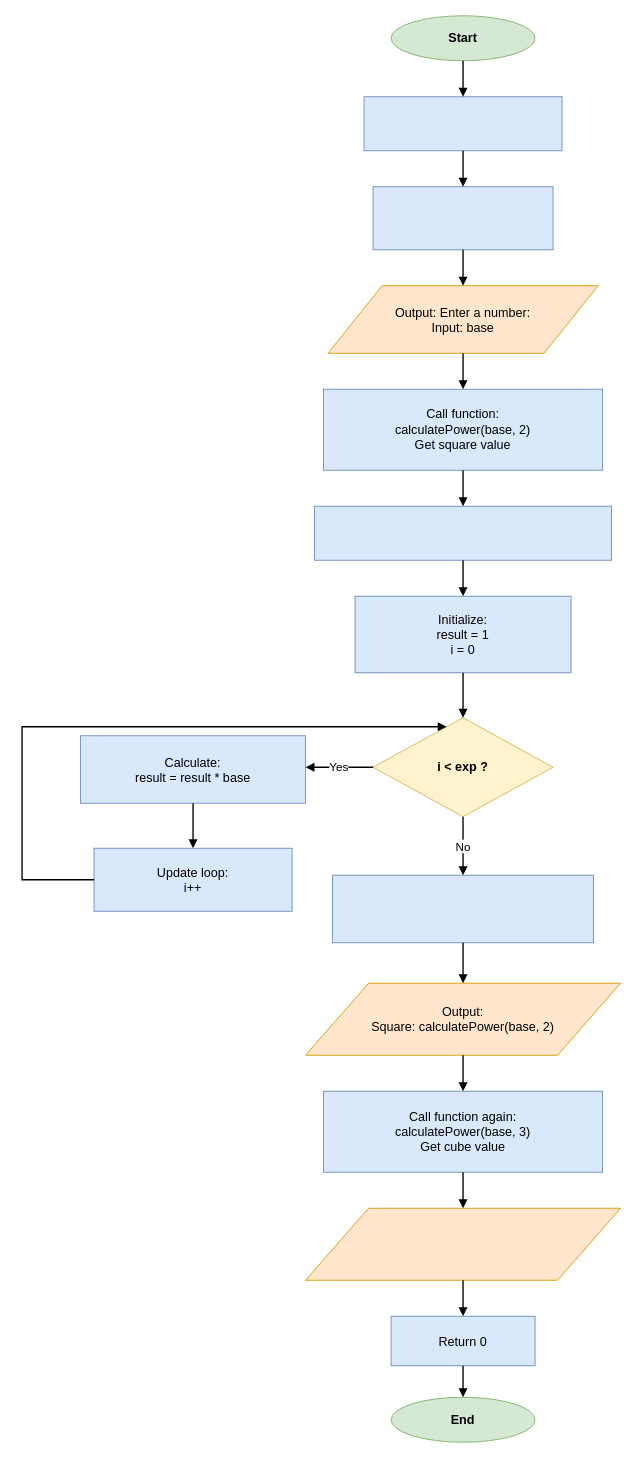
The diagram is 637 pixels wide and 1458 high, and some of its shapes have lost their labels. The centre of each missing label's shape, as x and y in pixels:
"Declare variable: int base" goes at (x=462, y=218).
"Enter calculatePower(base, exp)" goes at (x=463, y=532).
"Enter main() function" goes at (x=462, y=123).
"Output: Cube: calculatePower(base, 3)" goes at (x=463, y=1243).
"Return result from calculatePower()" goes at (x=463, y=908).
